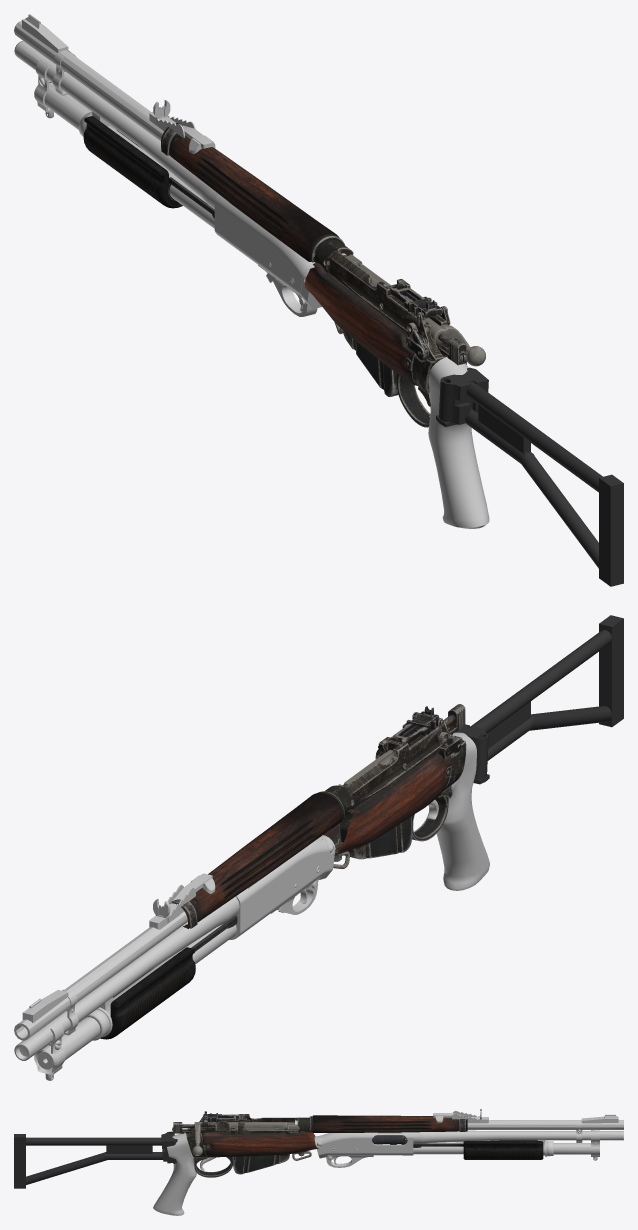
The model's file is Holm Lee Maverick R4.fbx.
3 renders of one model, top to bottom at view 1: azimuth 30°, elevation 25°; view 2: azimuth 150°, elevation 25°; view 3: azimuth 270°, elevation 25°, orthographic. The views are drawn at different scales.
Parts seen in each view (by area): view 1: Lee Body, Shotgun body, Stock, Grip, Barrel, Pump, Lee Bolt; view 2: Lee Body, Shotgun body, Stock, Grip, Barrel, Pump, Lee Bolt; view 3: Lee Body, Shotgun body, Stock, Grip, Pump, Barrel, Lee Bolt.
Boxes of the visible parts, bbox=[...] form: Lee Body: bbox=[161, 123, 467, 427]; Shotgun body: bbox=[14, 41, 321, 316]; Stock: bbox=[465, 382, 623, 586]; Grip: bbox=[428, 356, 489, 528]; Barrel: bbox=[14, 14, 346, 255]; Pump: bbox=[83, 116, 214, 218]; Lee Bolt: bbox=[345, 254, 485, 366]; Lee Body: bbox=[169, 706, 466, 928]; Shotgun body: bbox=[14, 835, 335, 1080]; Stock: bbox=[469, 615, 623, 760]; Grip: bbox=[429, 724, 489, 890]; Barrel: bbox=[14, 873, 215, 1040]; Pump: bbox=[100, 915, 237, 1039]; Lee Bolt: bbox=[338, 704, 465, 786]; Lee Body: bbox=[186, 1111, 467, 1177]; Shotgun body: bbox=[314, 1122, 623, 1167]; Stock: bbox=[14, 1134, 163, 1188]; Grip: bbox=[153, 1131, 196, 1215]; Pump: bbox=[372, 1135, 543, 1159]; Barrel: bbox=[295, 1109, 623, 1129]; Lee Bolt: bbox=[172, 1122, 299, 1155].
Bounding box in the file's own units: 1017 × 2814 × 14939.
